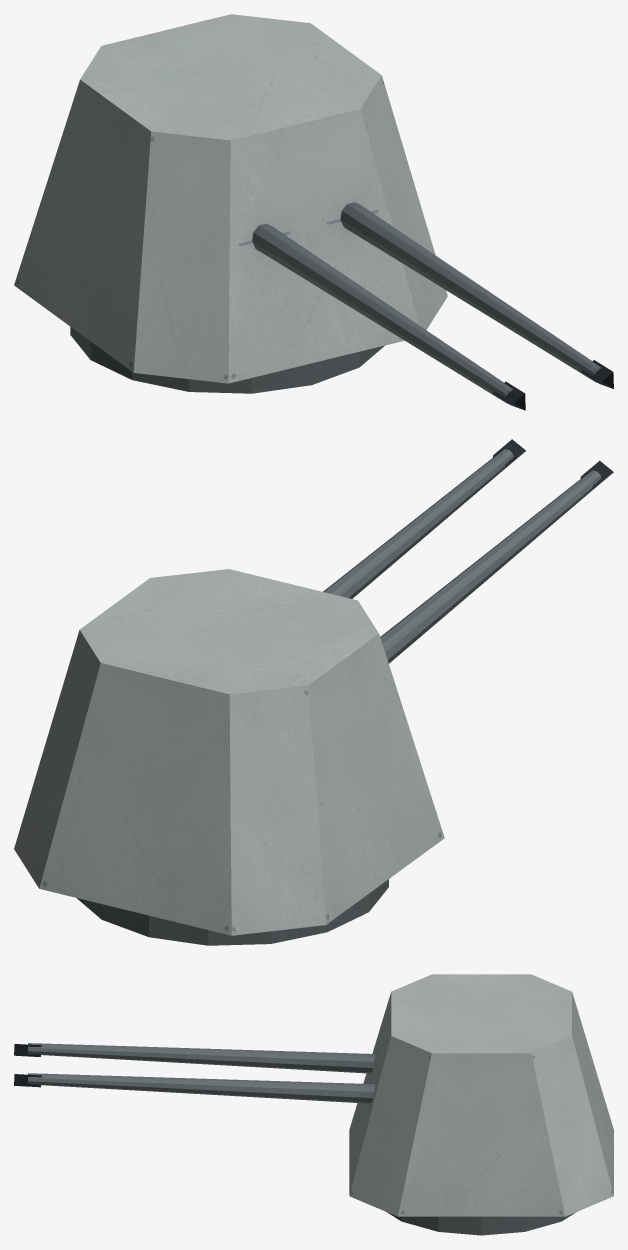
File: cruiser_artillery_source.glb
3 renders of one model, top to bottom at view 1: azimuth 30°, elevation 25°; view 2: azimuth 150°, elevation 25°; view 3: azimuth 270°, elevation 25°, orthographic. The views are drawn at different scales.
Parts seen in each view (by area): view 1: MESH_SLAVA_TEMPLATE_artillery.003; view 2: MESH_SLAVA_TEMPLATE_artillery.003; view 3: MESH_SLAVA_TEMPLATE_artillery.003.
Part boxes in pixels (x1=…): MESH_SLAVA_TEMPLATE_artillery.003: x1=14, y1=14, x2=613, y2=410; MESH_SLAVA_TEMPLATE_artillery.003: x1=14, y1=439, x2=613, y2=945; MESH_SLAVA_TEMPLATE_artillery.003: x1=14, y1=974, x2=613, y2=1235.
Size of the model in its own units: 4.7 by 3.55 by 11.11.
Materials: 1 (1 with a texture image).
